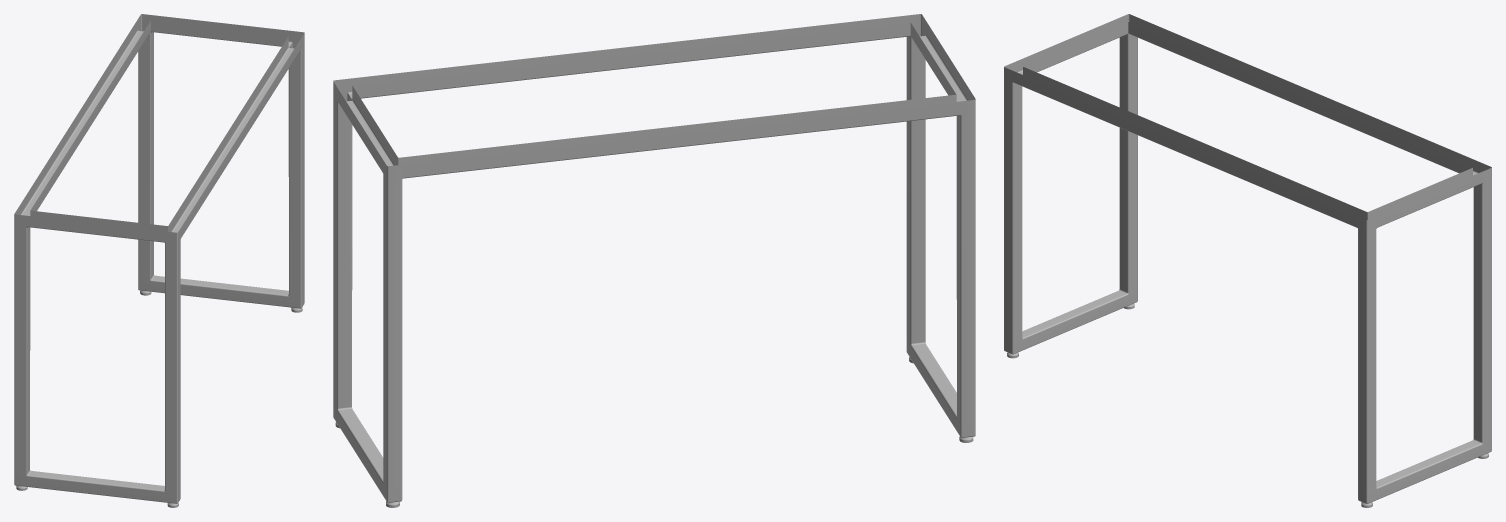
Rendered from diningtable_0104_leg_rectagle.glb.
The picture shows the model from 3 angles, left to right: view 1: azimuth 30°, elevation 25°; view 2: azimuth 150°, elevation 25°; view 3: azimuth 270°, elevation 25°; orthographic projection. The views are drawn at different scales.
Parts seen in each view (by area): view 1: diningtable_0104_leg_rectagle; view 2: diningtable_0104_leg_rectagle; view 3: diningtable_0104_leg_rectagle.
Boxes of the visible parts, left/top/right/bottom form: diningtable_0104_leg_rectagle: left=14, top=14, right=304, bottom=507; diningtable_0104_leg_rectagle: left=333, top=14, right=975, bottom=507; diningtable_0104_leg_rectagle: left=1004, top=14, right=1491, bottom=507.
Size of the model in its own units: 1.45 by 0.9468 by 1.45.
1 material, 1 textured.
